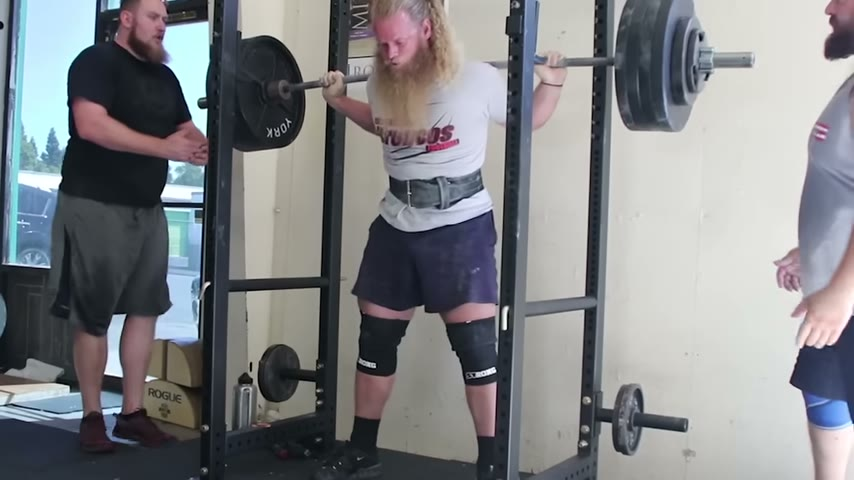barbell_plate_side: (669, 2, 758, 137), (605, 377, 693, 463)
